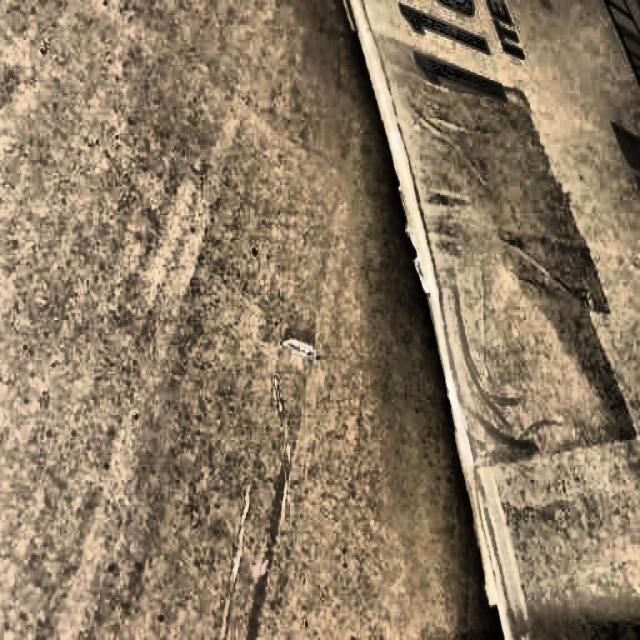cardboard: (23, 13, 597, 529)
